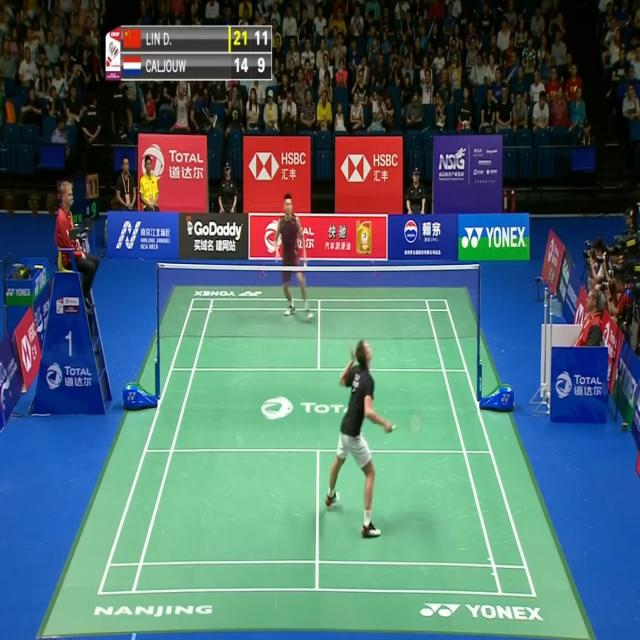Player1: (322, 333, 427, 543)
Player2: (262, 187, 318, 325)
